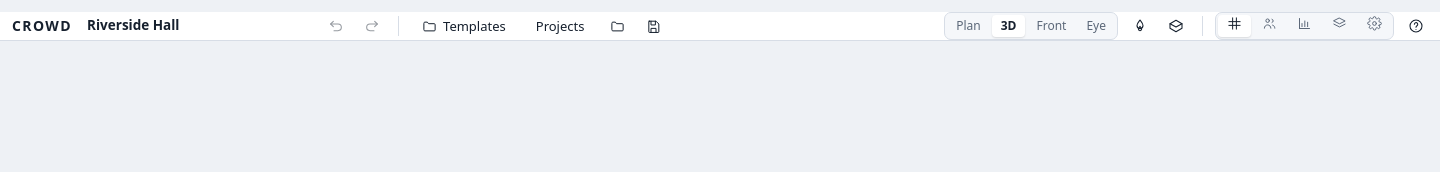
Test: getting a project in and out › downloads the venue under a filename made from the name it has now
Replace the text in the field named "Project name" with "Riverside Hall — August rehearsal" at (189,26), box [80,12,298,40]
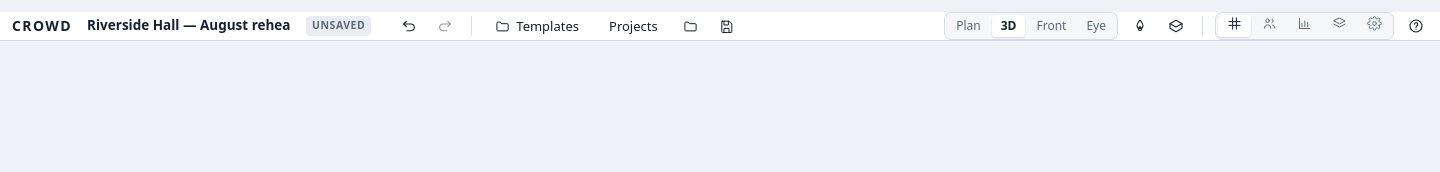
Click the button titled "Download this project".
click(727, 26)  # box [713,12,741,40]
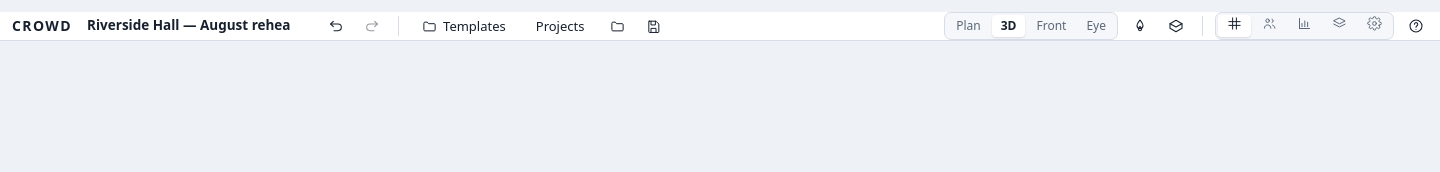
Expected: the text "Unsaved" is gone
